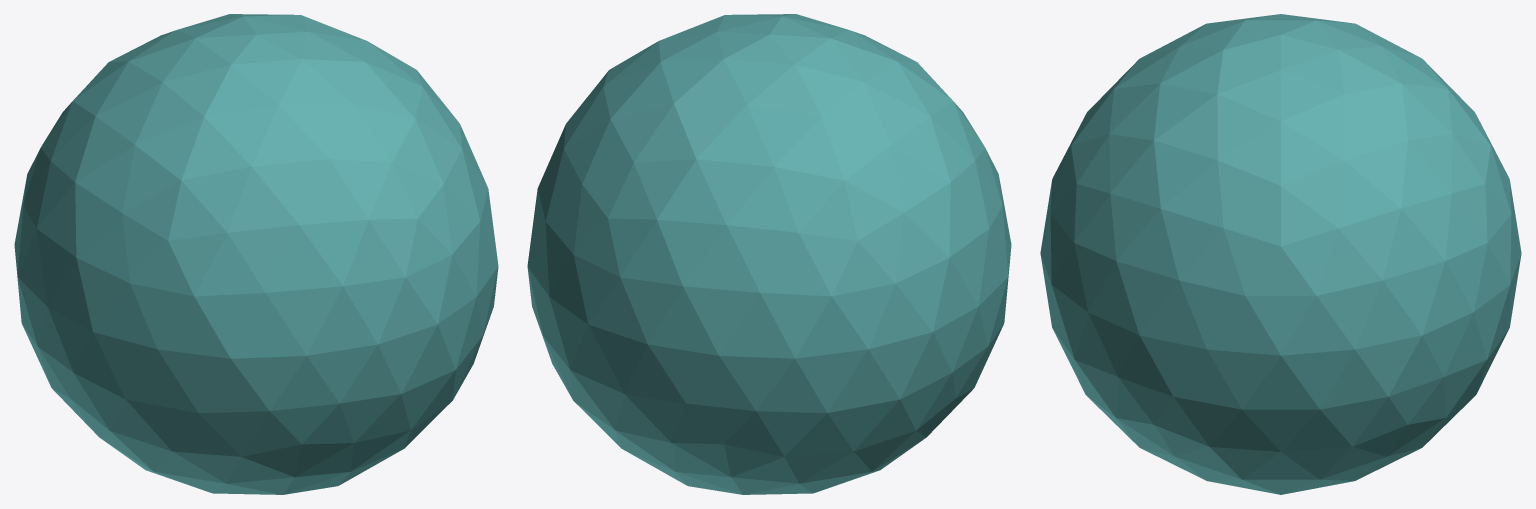
File: ball_core.fbx
3 views of the same model, side by side, from view 1: azimuth 30°, elevation 25°; view 2: azimuth 150°, elevation 25°; view 3: azimuth 270°, elevation 25° (orthographic).
Visible parts, largest first — view 1: ball_core; view 2: ball_core; view 3: ball_core.
Part boxes in pixels (x1,y1,x2,y2): ball_core: (14, 14, 498, 494); ball_core: (527, 14, 1011, 494); ball_core: (1040, 14, 1521, 494).
Size of the model in its own units: 1 by 1 by 1.
